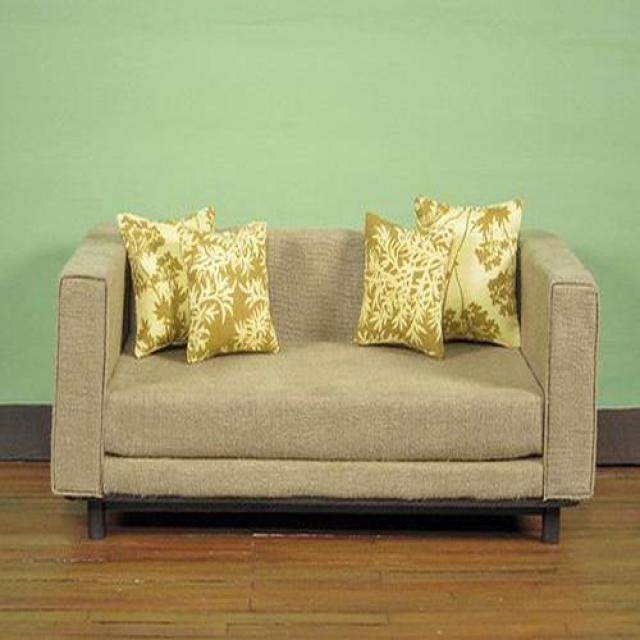sofa: (46, 209, 600, 547)
